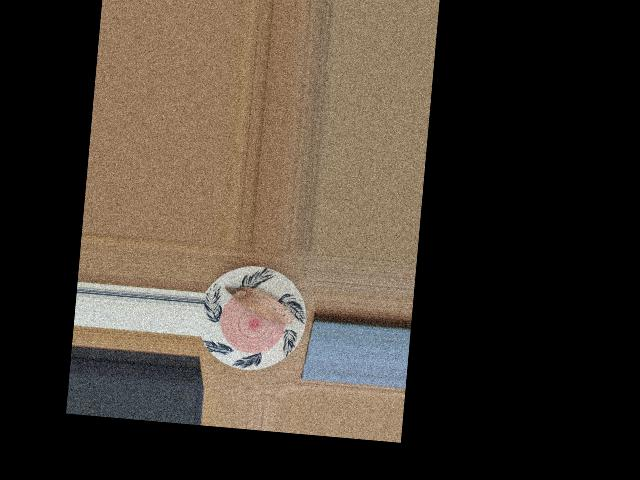sweet_potato: (229, 285, 291, 326)
